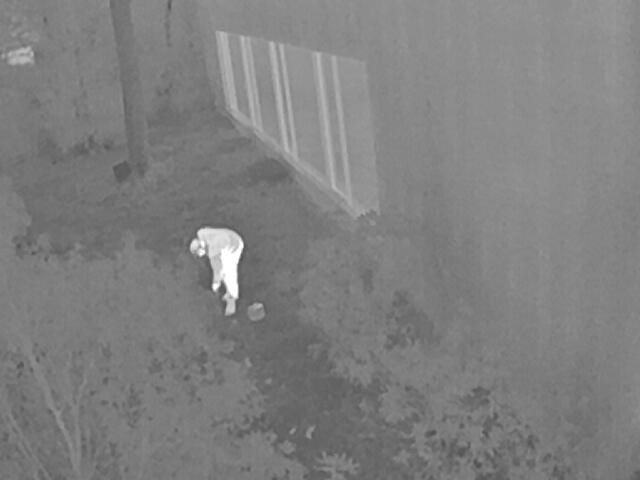person: (189, 226, 241, 318)
